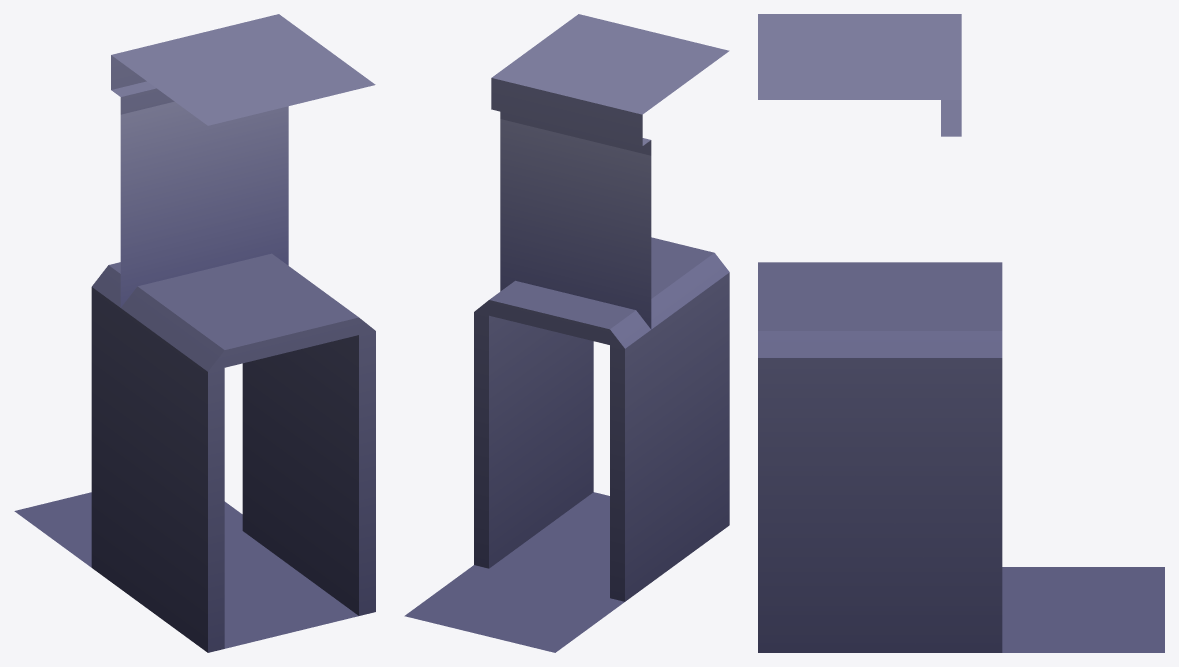
File: structure-doorway.glb
3 views of the same model, side by side, from view 1: azimuth 30°, elevation 25°; view 2: azimuth 150°, elevation 25°; view 3: azimuth 270°, elevation 25° (orthographic). The views are drawn at different scales.
Visible parts, largest first — view 1: structure-doorway; view 2: structure-doorway; view 3: structure-doorway.
Boxes of the visible parts, x1,y1,x2,y2 form: structure-doorway: (14,14,375,652); structure-doorway: (404,14,729,652); structure-doorway: (758,14,1164,652).
Size of the model in its own units: 1 by 3 by 2.
Materials: 1 (1 with a texture image).
